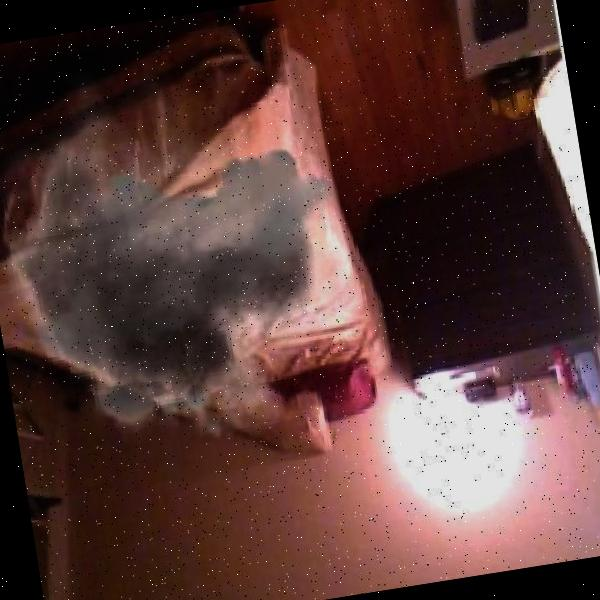smoke: (0, 108, 314, 450)
